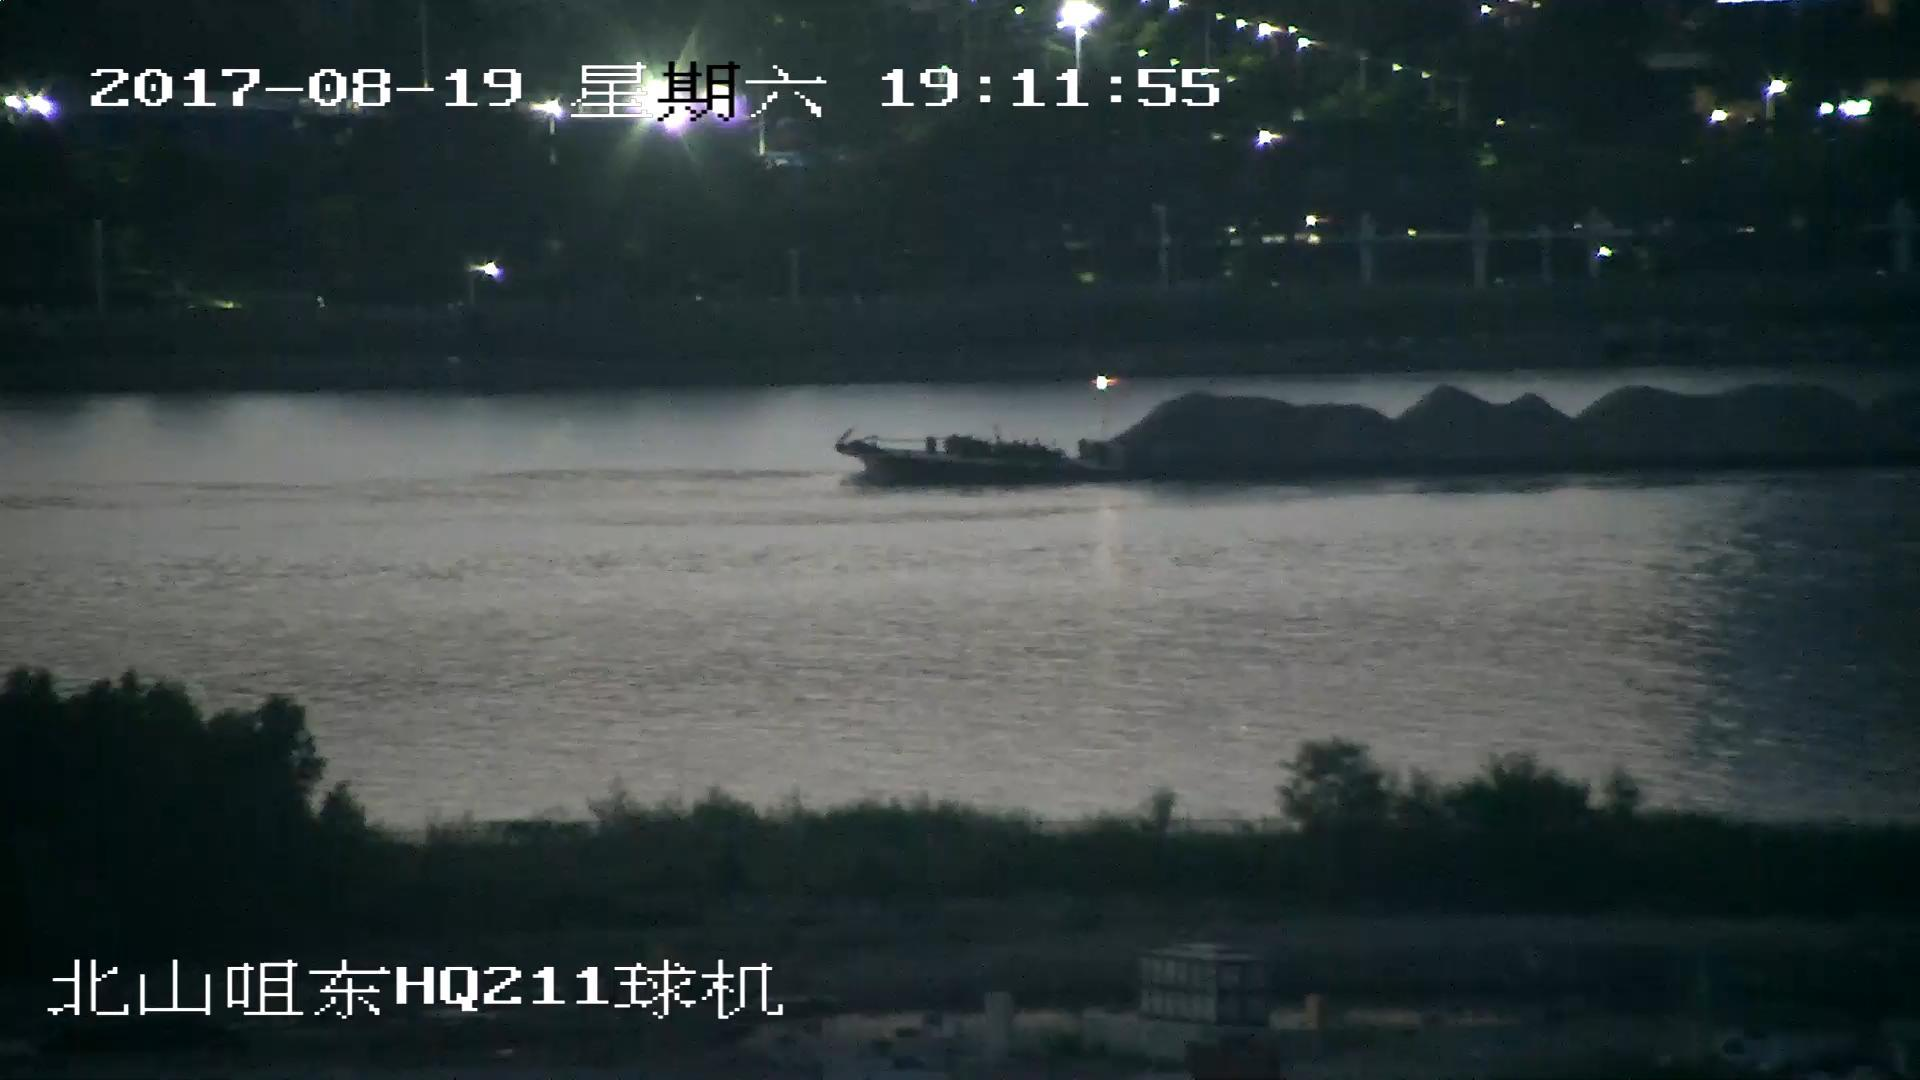Ship: (843, 381, 1920, 497)
